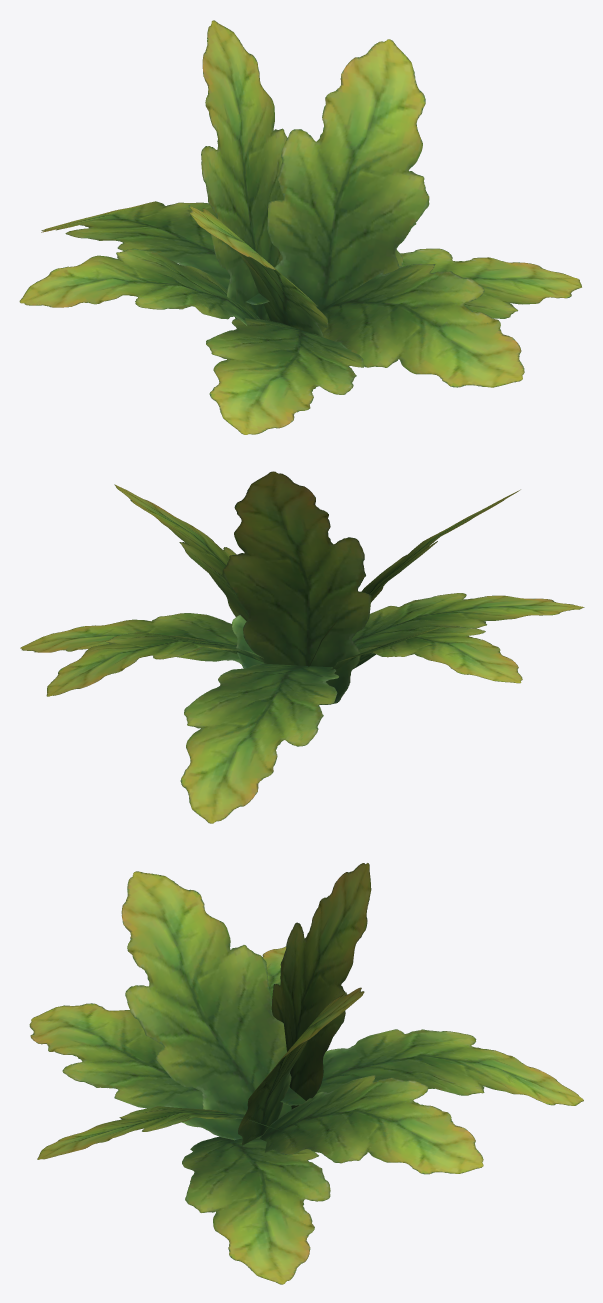
The model's file is zhiwu_06.FBX.
3 renders of one model, top to bottom at view 1: azimuth 30°, elevation 25°; view 2: azimuth 150°, elevation 25°; view 3: azimuth 270°, elevation 25°, orthographic. The views are drawn at different scales.
Parts seen in each view (by area): view 1: zhiwu_06; view 2: zhiwu_06; view 3: zhiwu_06.
Boxes of the visible parts, x1,y1,x2,y2 form: zhiwu_06: [19, 20, 581, 434]; zhiwu_06: [20, 471, 584, 823]; zhiwu_06: [29, 863, 583, 1284].
Size of the model in its own units: 91.06 by 48.18 by 88.01.
